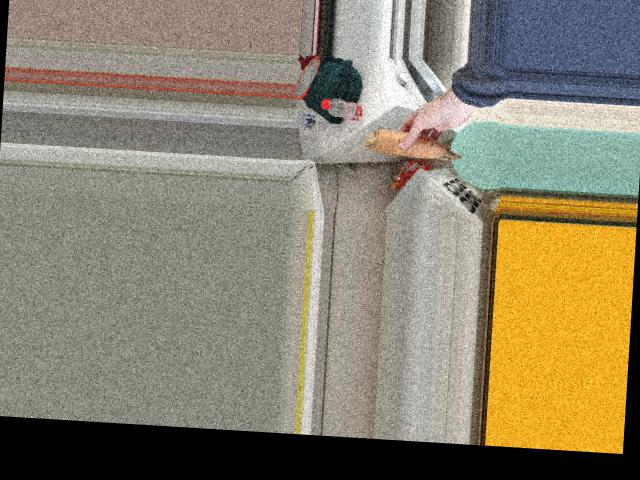sweet_potato: (367, 127, 461, 168)
